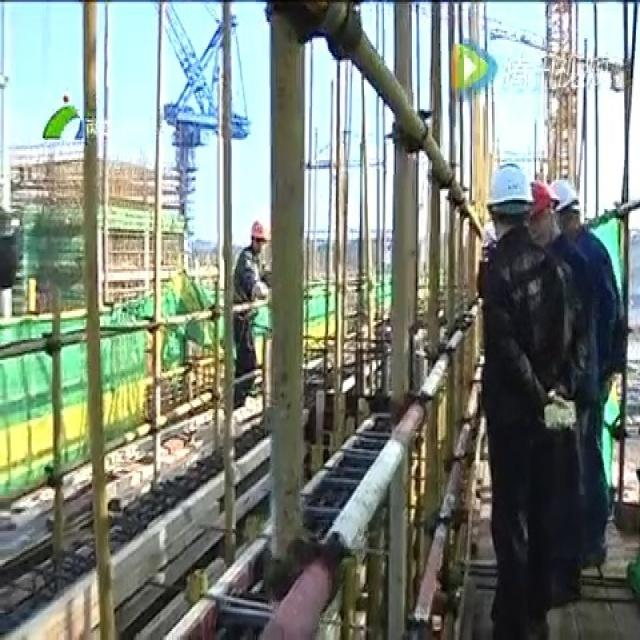helmet: (484, 211, 531, 312), (526, 232, 557, 315), (549, 236, 581, 309), (247, 290, 267, 338)
